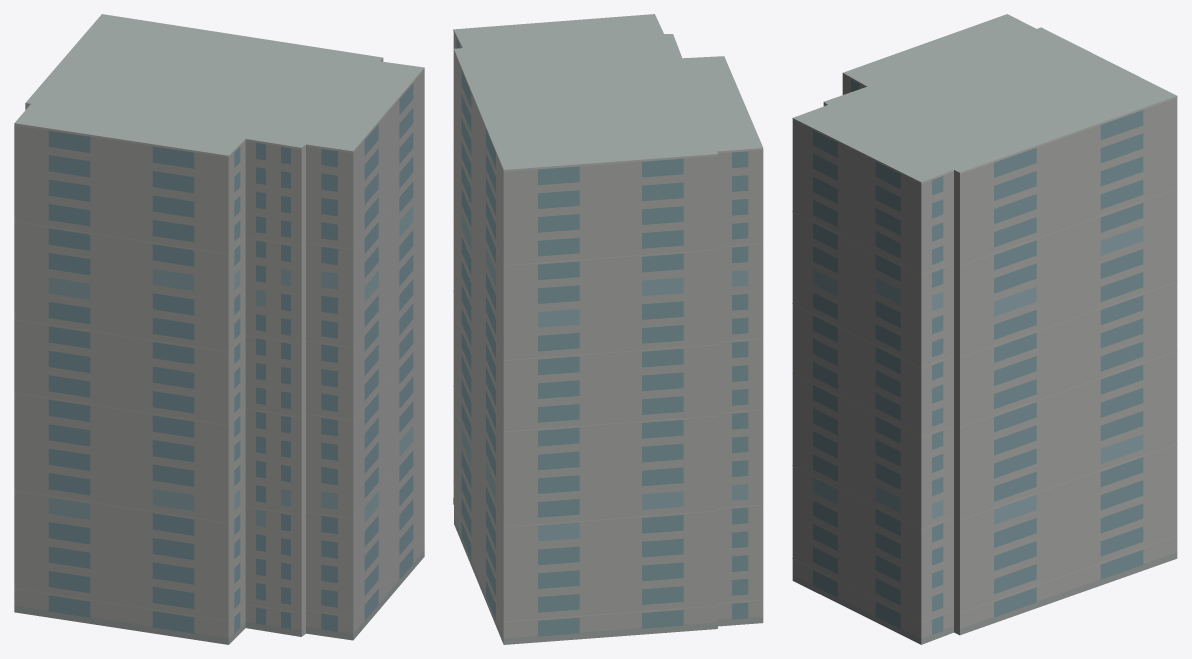
The model's file is survey-upis-32949348.glb.
3 views of the same model, side by side, from view 1: azimuth 30°, elevation 25°; view 2: azimuth 150°, elevation 25°; view 3: azimuth 270°, elevation 25° (orthographic). The views are drawn at different scales.
Visible parts, largest first — view 1: survey-upis-32949348.tmp; view 2: survey-upis-32949348.tmp; view 3: survey-upis-32949348.tmp.
Boxes of the visible parts, x1,y1,x2,y2 form: survey-upis-32949348.tmp: (14, 14, 424, 644); survey-upis-32949348.tmp: (453, 14, 763, 644); survey-upis-32949348.tmp: (792, 14, 1177, 644).
Size of the model in its own units: 47.61 by 61 by 46.01.
